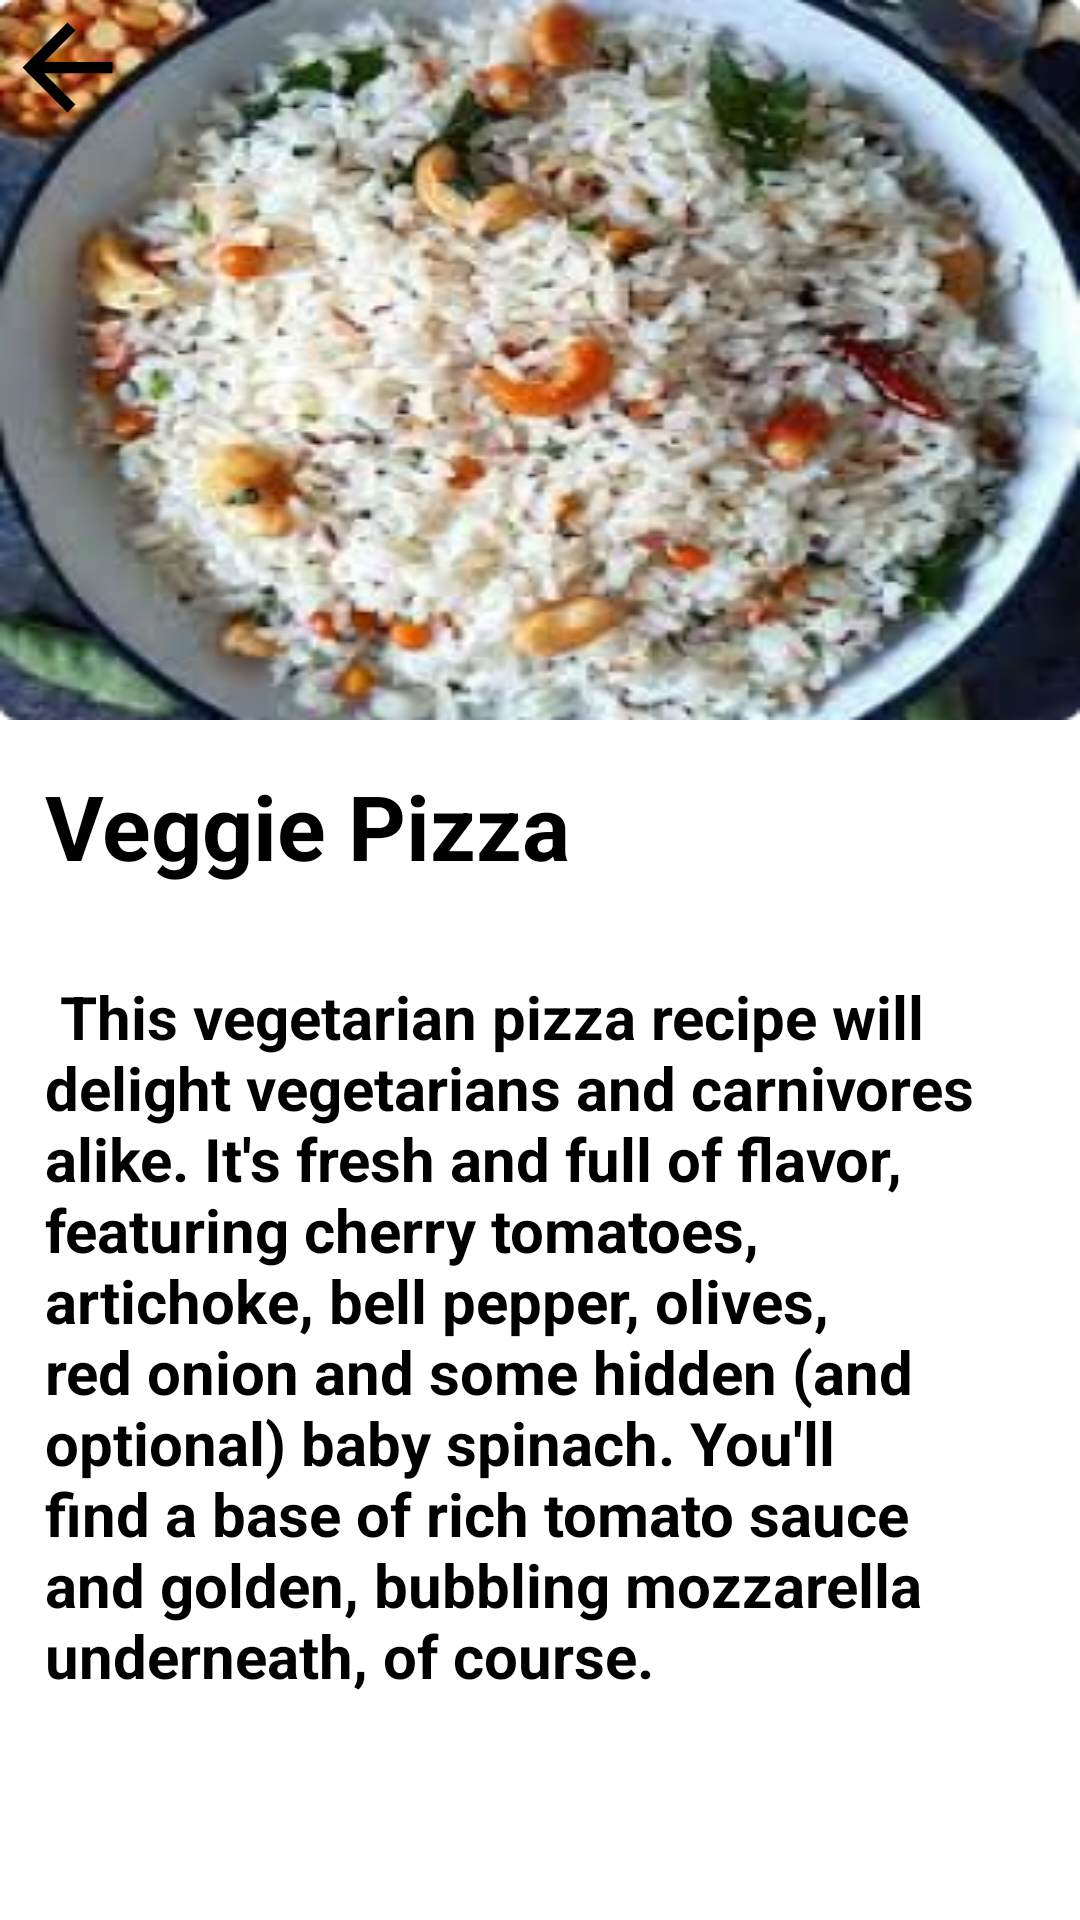

Screen size 1080 x 1920. Icon name, then its center in pixels as (x=x, y=y):
back: (x=67, y=67)
